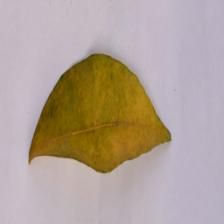greening: (56, 64, 168, 152)
